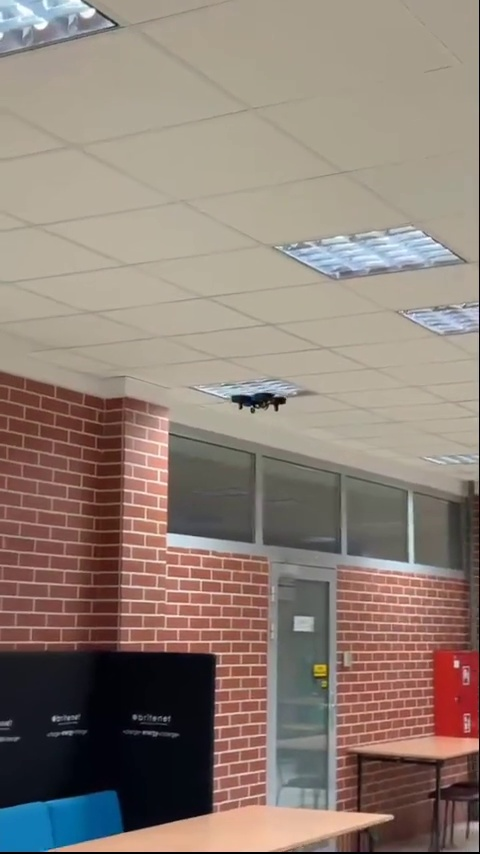drone: (229, 387, 286, 414)
